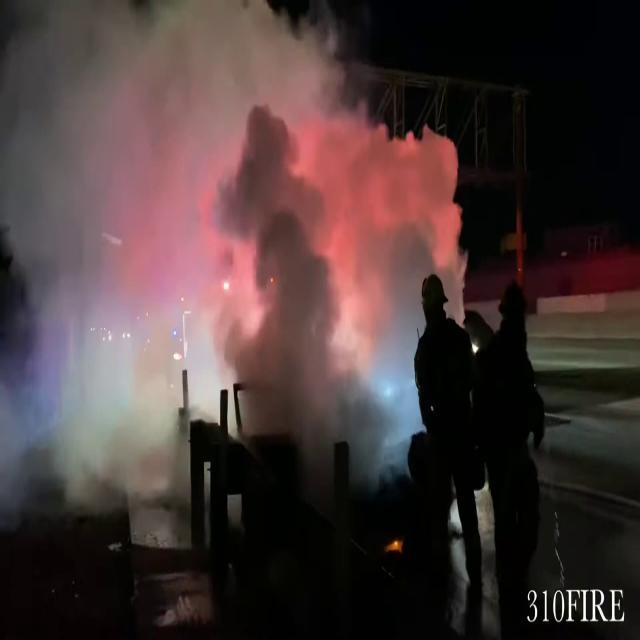Smoke: (0, 0, 400, 503)
